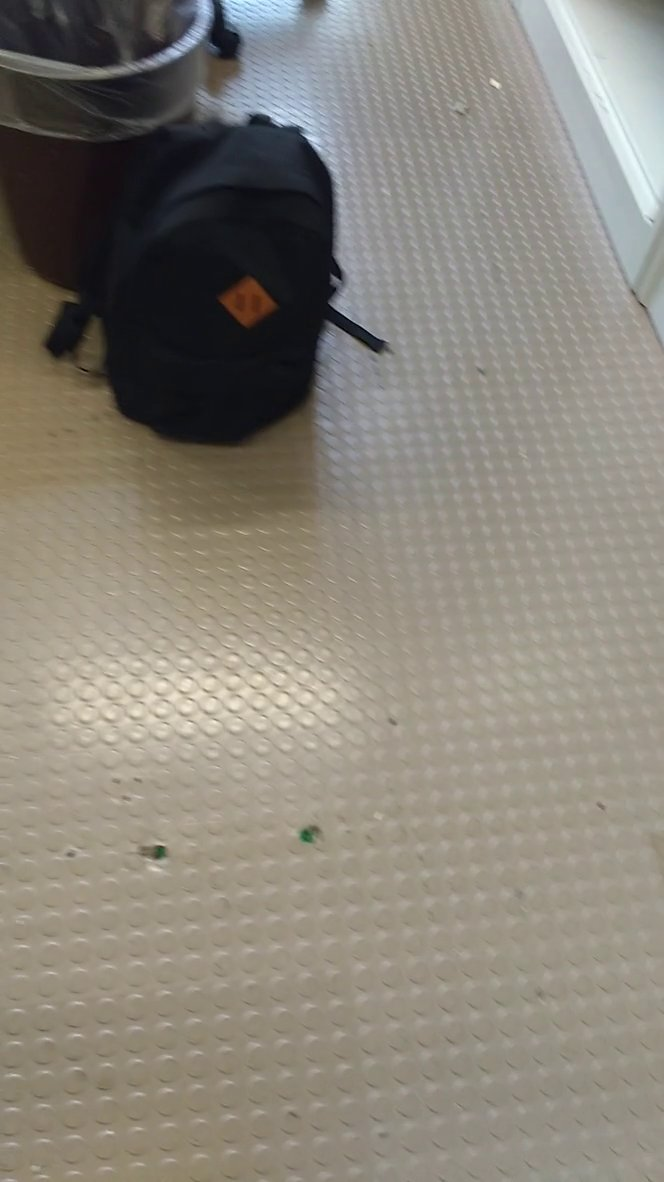bag: (41, 95, 398, 453)
